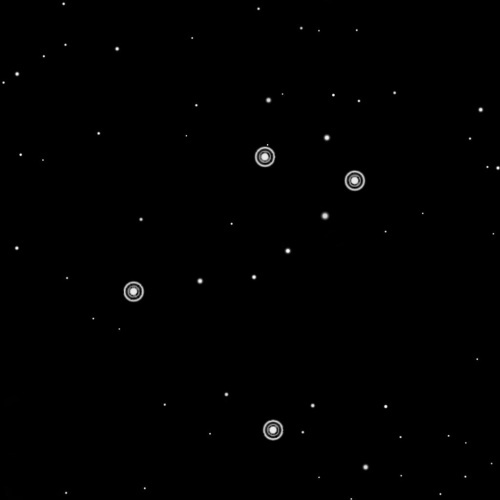coma_berenices: (113, 133, 379, 451)
